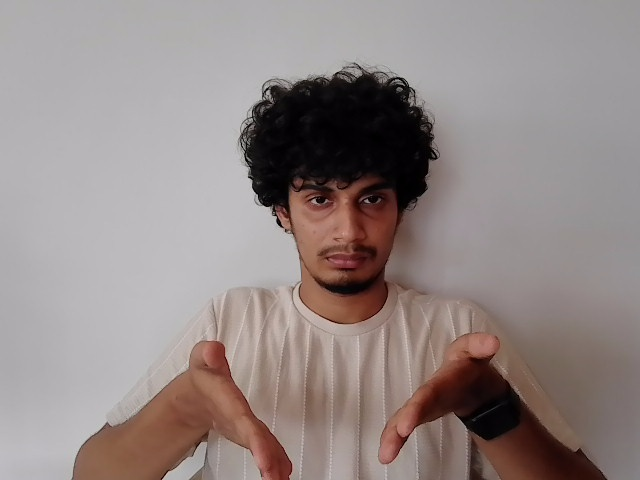here: (191, 333, 500, 480)
